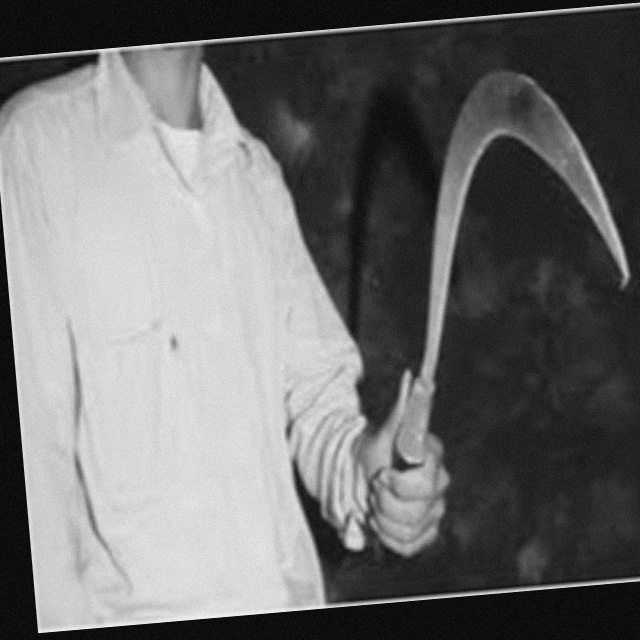Sharp-Object: (330, 58, 640, 556)
